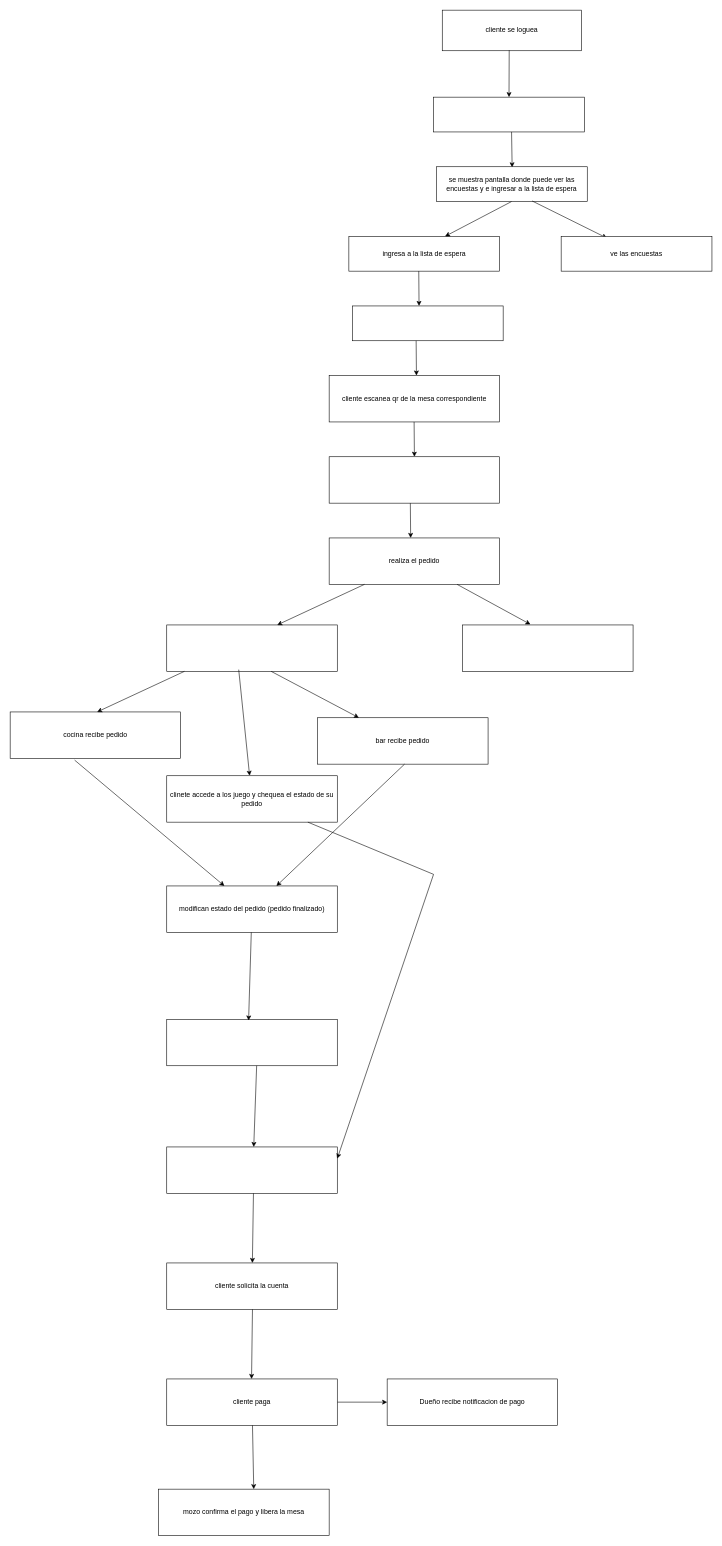
The diagram is 722 pixels wide and 1546 high, and some of its shapes have lost their labels. Each missing label, with the centre of its shape:
cliente accede a la encuiesta: point (251, 1169)
escanea qr de ingeso al local: point (508, 114)
metre asigna mesa: point (427, 323)
mozo acepta pedido: point (251, 647)
mozo entrega el pedido: point (251, 1042)
mozo rechaza: point (547, 647)
se enlaza con su mesa y puede ver menu y hacer el pedido: point (414, 479)
